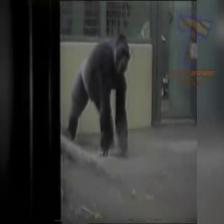monkey: (112, 33, 132, 79)
